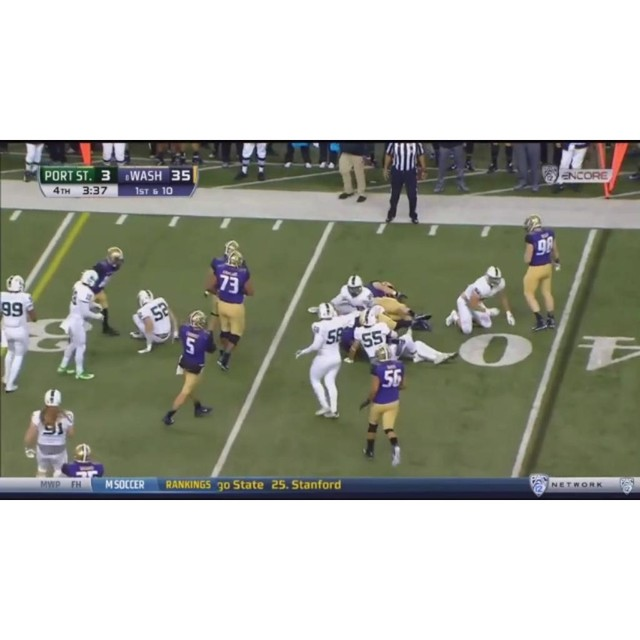american-football-player: (295, 302, 352, 420), (162, 311, 217, 425), (360, 344, 407, 467), (205, 250, 252, 372), (57, 272, 102, 381), (446, 265, 514, 335), (0, 274, 39, 392), (521, 215, 561, 330), (24, 390, 75, 479), (89, 247, 126, 337), (354, 305, 400, 365), (133, 291, 176, 355), (61, 443, 105, 480)
referee: (376, 141, 428, 233)
